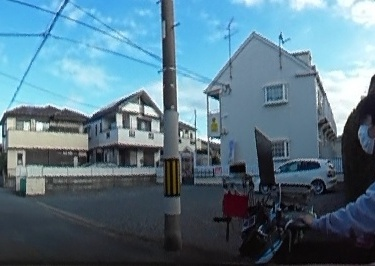person: (293, 88, 375, 266)
